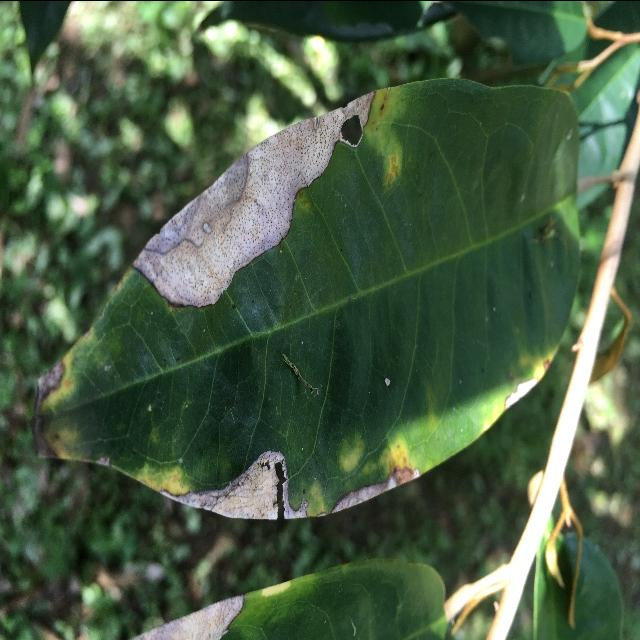Leaf Blight: (16, 65, 589, 529)
